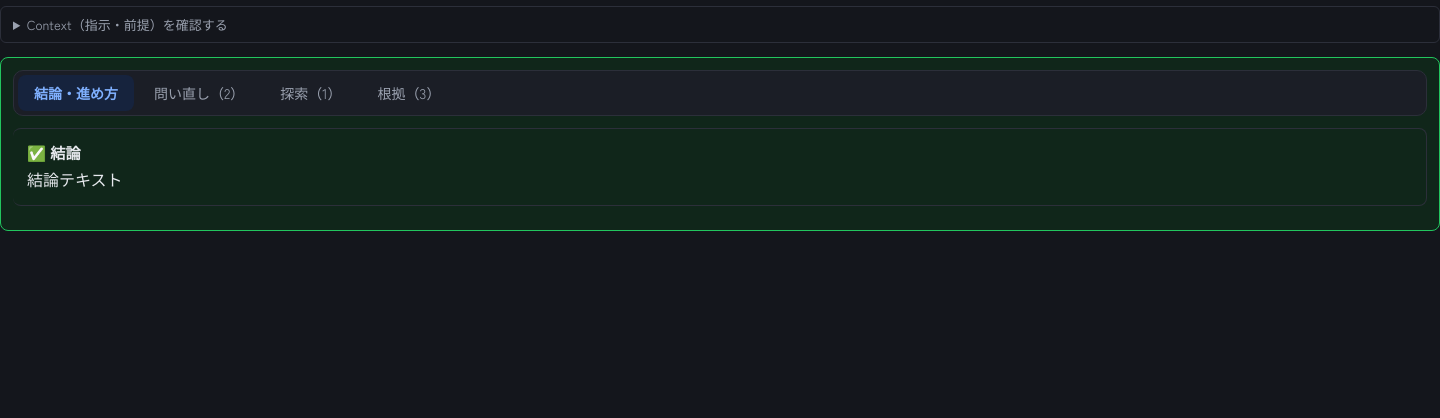
Test: ExecutionState › idle+proposalの場合は結論タブを既定表示し、問い直し・探索・根拠はタブで切り替える
Check: the text "結論テキスト" is shown, box [27,167,122,191]
Check: the tab "探索（1）" is shown, box [264,75,358,111]
Click the tab "問い直し（2）": (199, 93) [138,75,260,111]
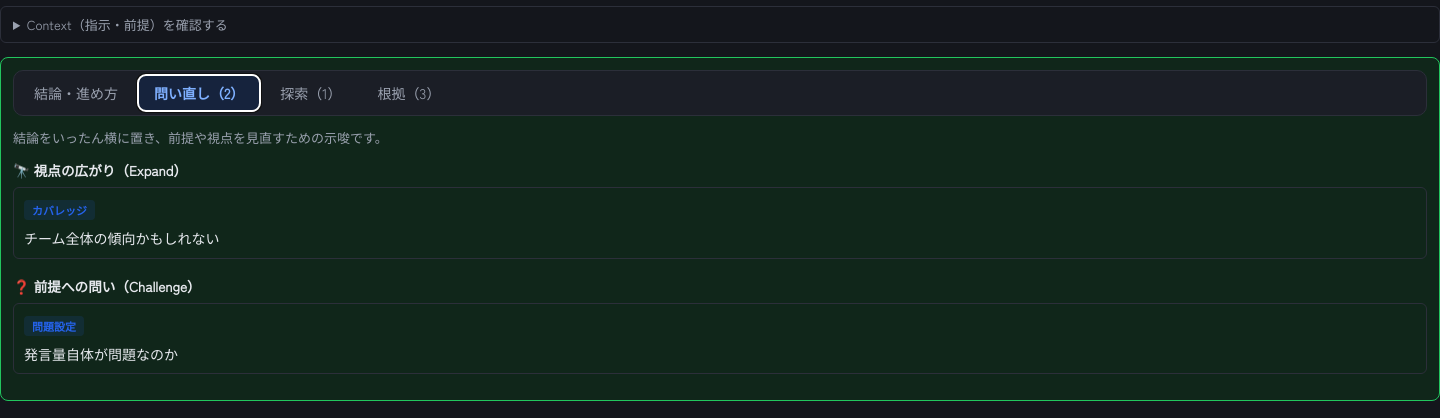
Check: the text "チーム全体の傾向かもしれない" is shown, box [24,228,220,248]
Check: the text "発言量自体が問題なのか" is shown, box [24,344,178,364]
Check: the text "結論テキスト" is gone
Click the tab "探索（1）": (311, 93) [264,75,358,111]
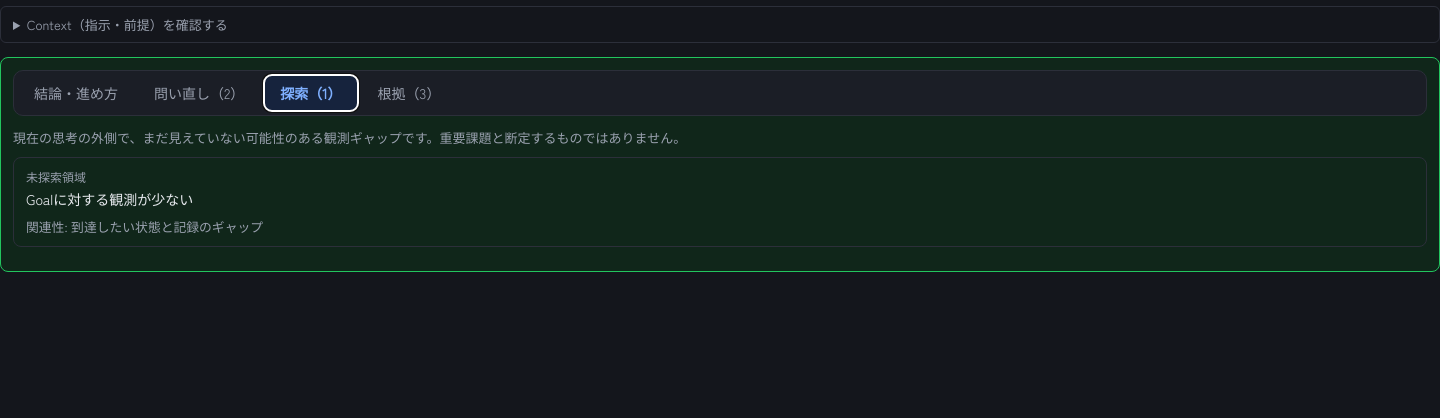
Check: the text "Goalに対する観測が少ない" is shown, box [26,189,193,209]
Check: the text "未探索領域" is shown, box [26,168,86,185]
Click the tab "根拠（3）": (409, 93) [362,75,456,111]
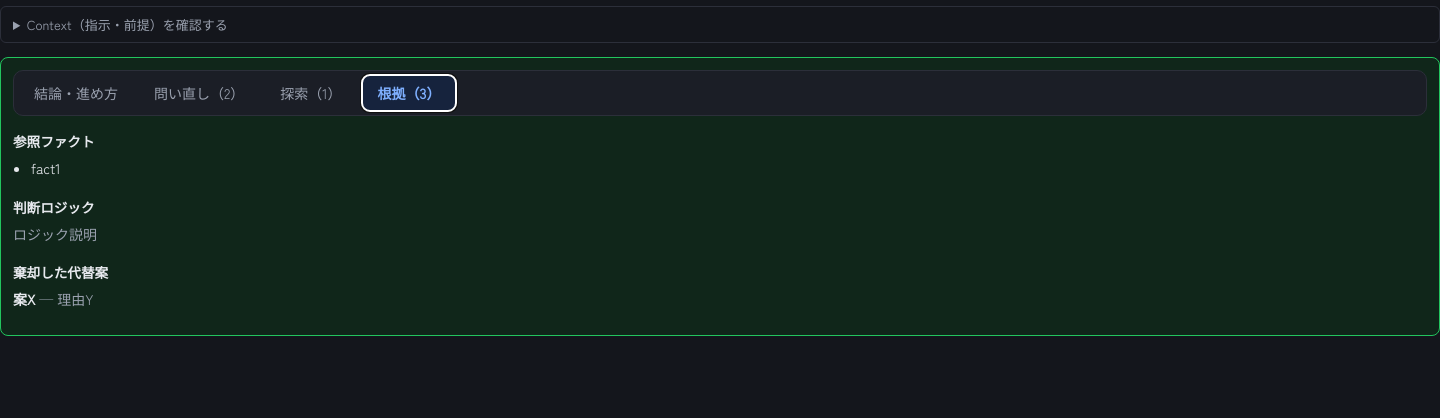
Check: the text "fact1" is shown, box [31,158,61,178]
Check: the text "ロジック説明" is shown, box [13,224,97,244]
Check: the text "案X" is shown, box [13,289,35,309]
